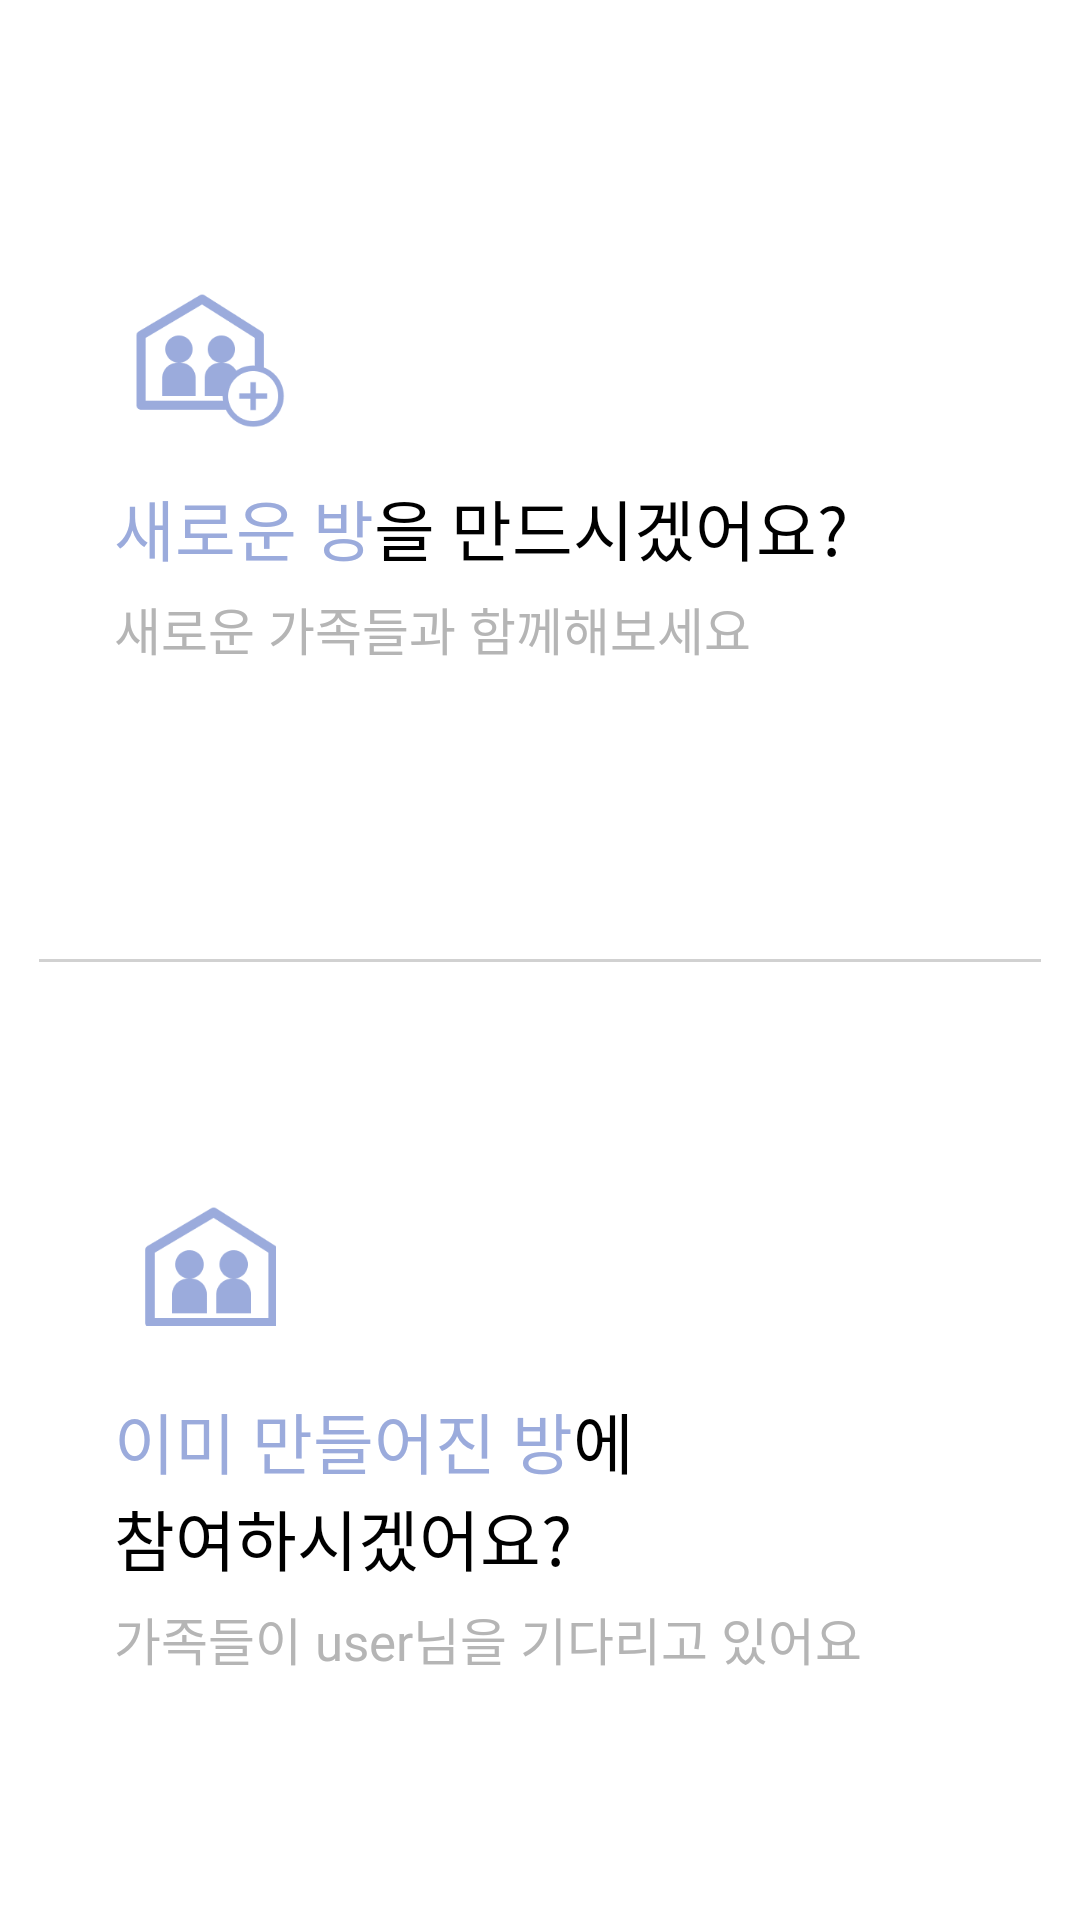

Locate icon controls on the screen. Image size 1080*1920, boxes as (x1, y1, x2, y2).
exist room: (145, 1207, 276, 1326)
room: (136, 294, 284, 427)
